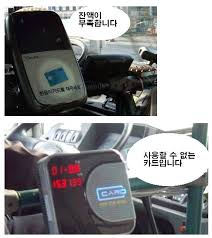terminal: (33, 145, 136, 234)
